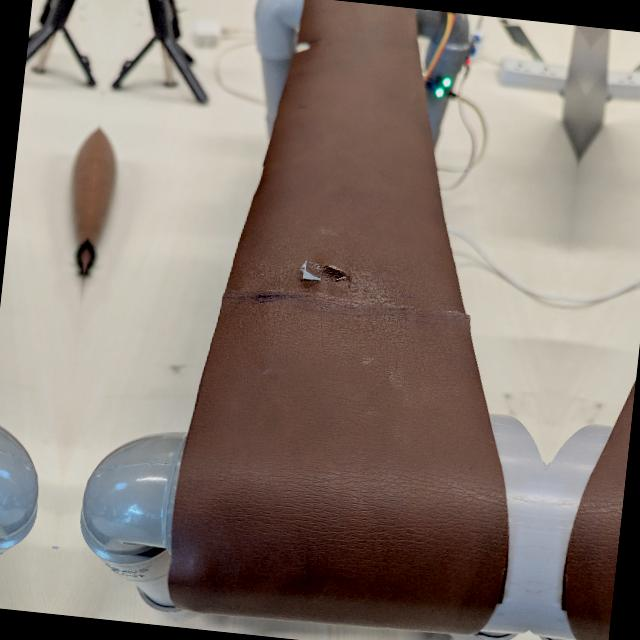joint_damage: (259, 244, 371, 305)
